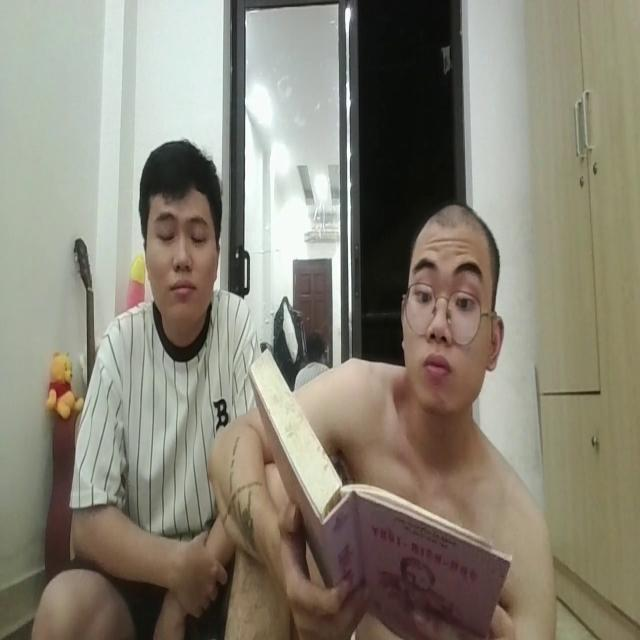book: (246, 330, 517, 640)
extra_person: (39, 82, 265, 640)
student: (210, 187, 550, 640)
